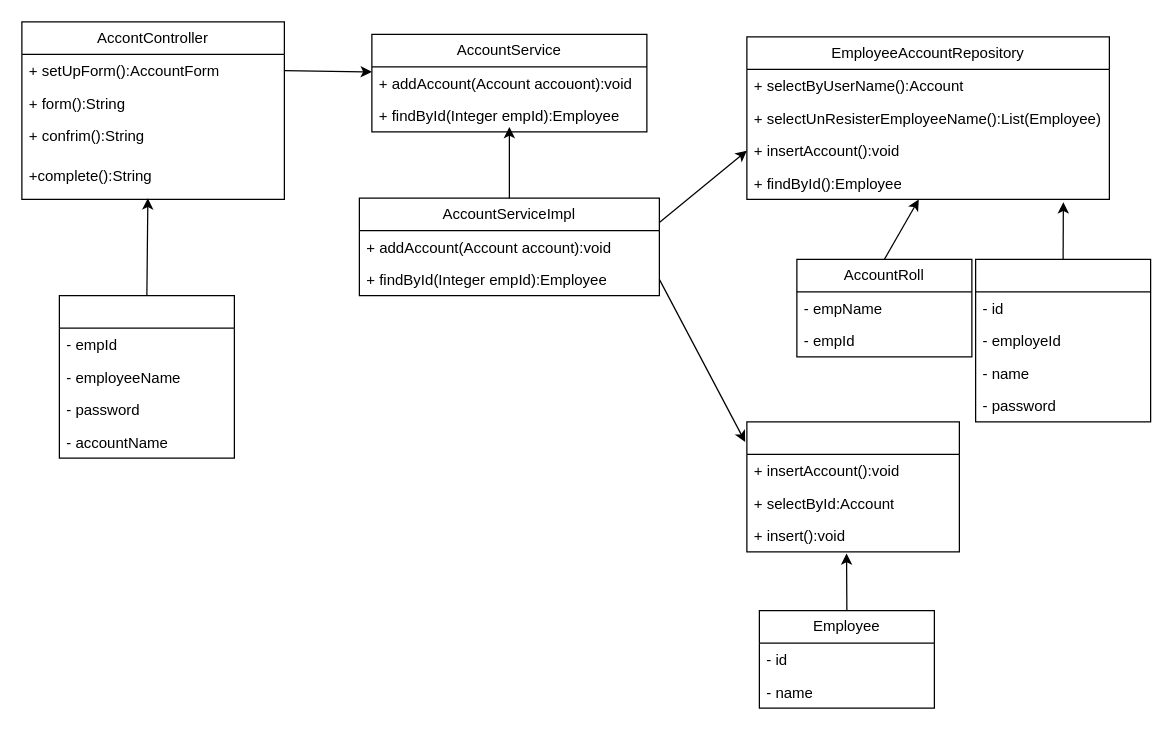
This 1173x734 diagram has some shape labels left out. The box of each missing label's shape, as (x1, y1, x2, y2) in pixels:
Account: (974, 258, 1151, 422)
AccountForm: (58, 294, 234, 458)
AccountRepository: (746, 421, 959, 552)
